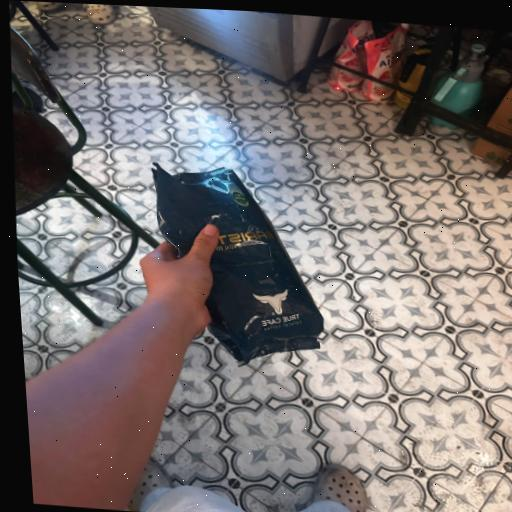cafe_hat: (151, 162, 323, 362)
